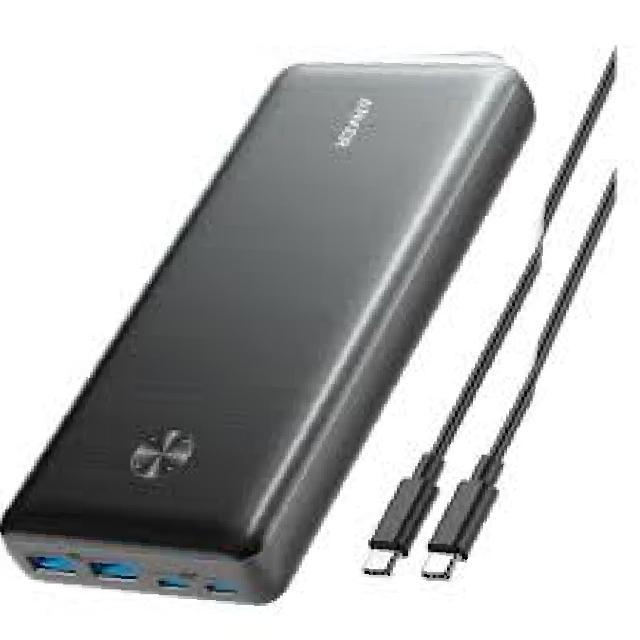Battery: (12, 51, 547, 640)
